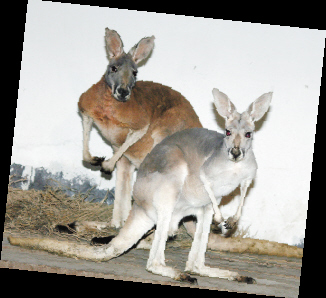kangaroo: (51, 27, 303, 259), (8, 89, 274, 290)
